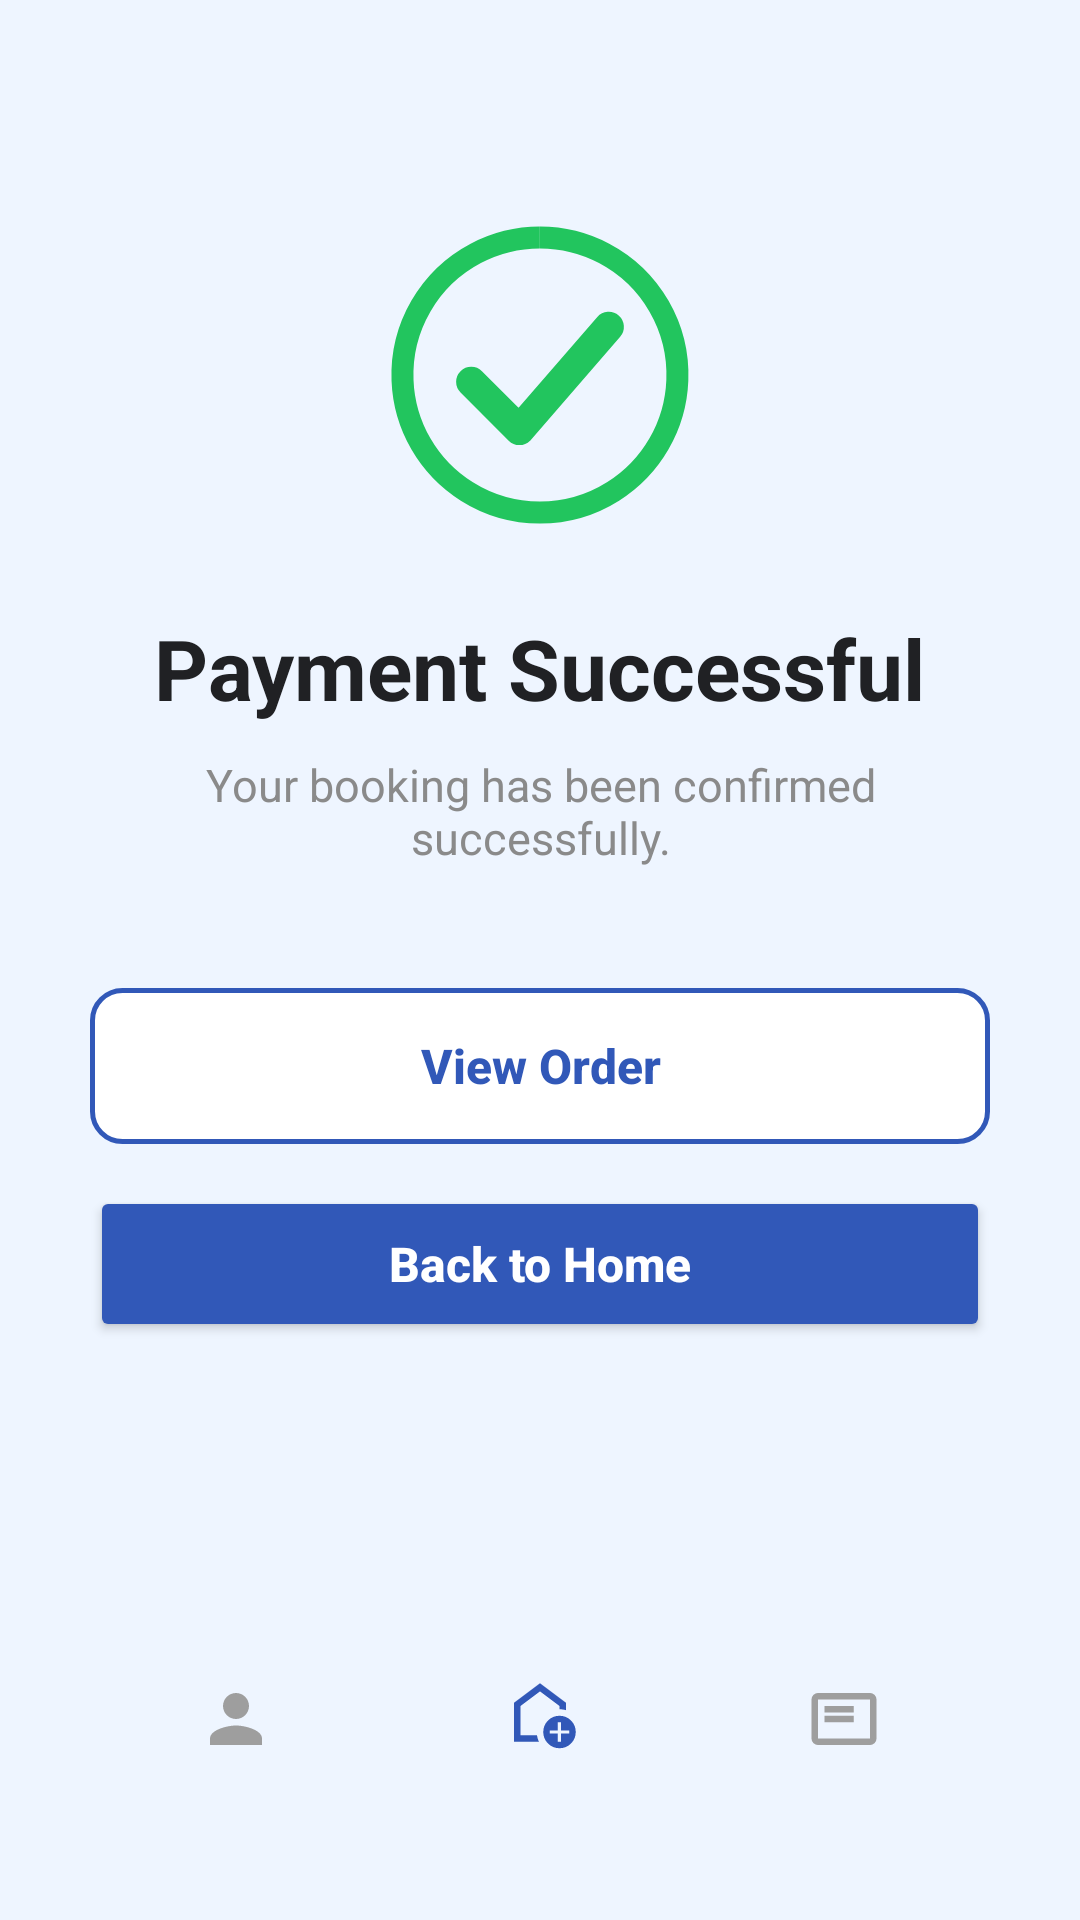

Locate icon controls on the screen. Image size 1080 × 1920, boxes as [left=x1, top=y1, right=x2, bottom=y2].
check circle: [left=391, top=226, right=689, bottom=524]
home: [left=514, top=1683, right=576, bottom=1749]
person: [left=210, top=1693, right=262, bottom=1745]
